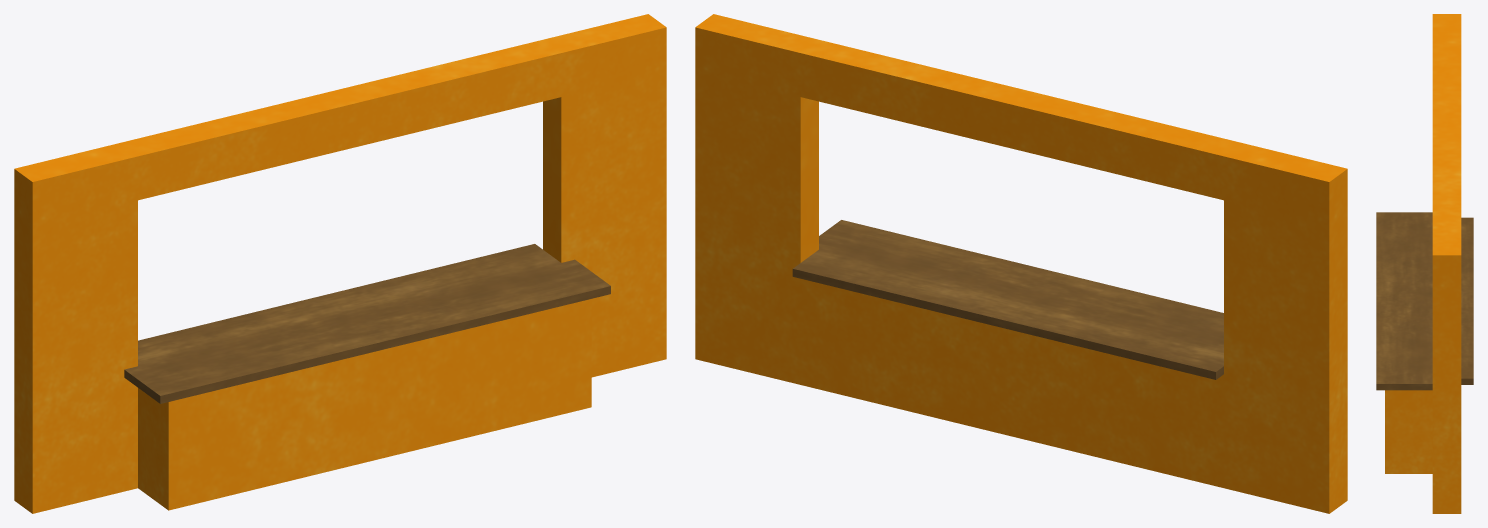
File: SM_DeliveryCounter (1).fbx
3 views of the same model, side by side, from view 1: azimuth 30°, elevation 25°; view 2: azimuth 150°, elevation 25°; view 3: azimuth 270°, elevation 25° (orthographic). The views are drawn at different scales.
Visible parts, largest first — view 1: SM_DeliveryCounter; view 2: SM_DeliveryCounter; view 3: SM_DeliveryCounter.
Boxes of the visible parts, <box> form: SM_DeliveryCounter: <box>14,14,666,513</box>; SM_DeliveryCounter: <box>695,14,1347,513</box>; SM_DeliveryCounter: <box>1376,14,1473,513</box>.
Bounding box in the file's own units: 600 × 300 × 102.
2 materials, 2 textured.
